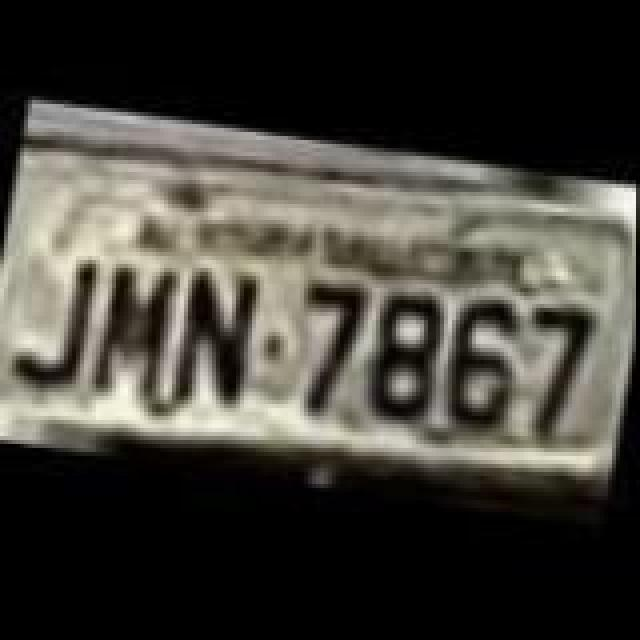6: (436, 292, 532, 436)
7: (506, 300, 602, 448), (284, 274, 380, 422)
8: (364, 294, 460, 438)
J: (6, 254, 106, 394)
M: (84, 262, 188, 406)
N: (166, 260, 274, 420)
